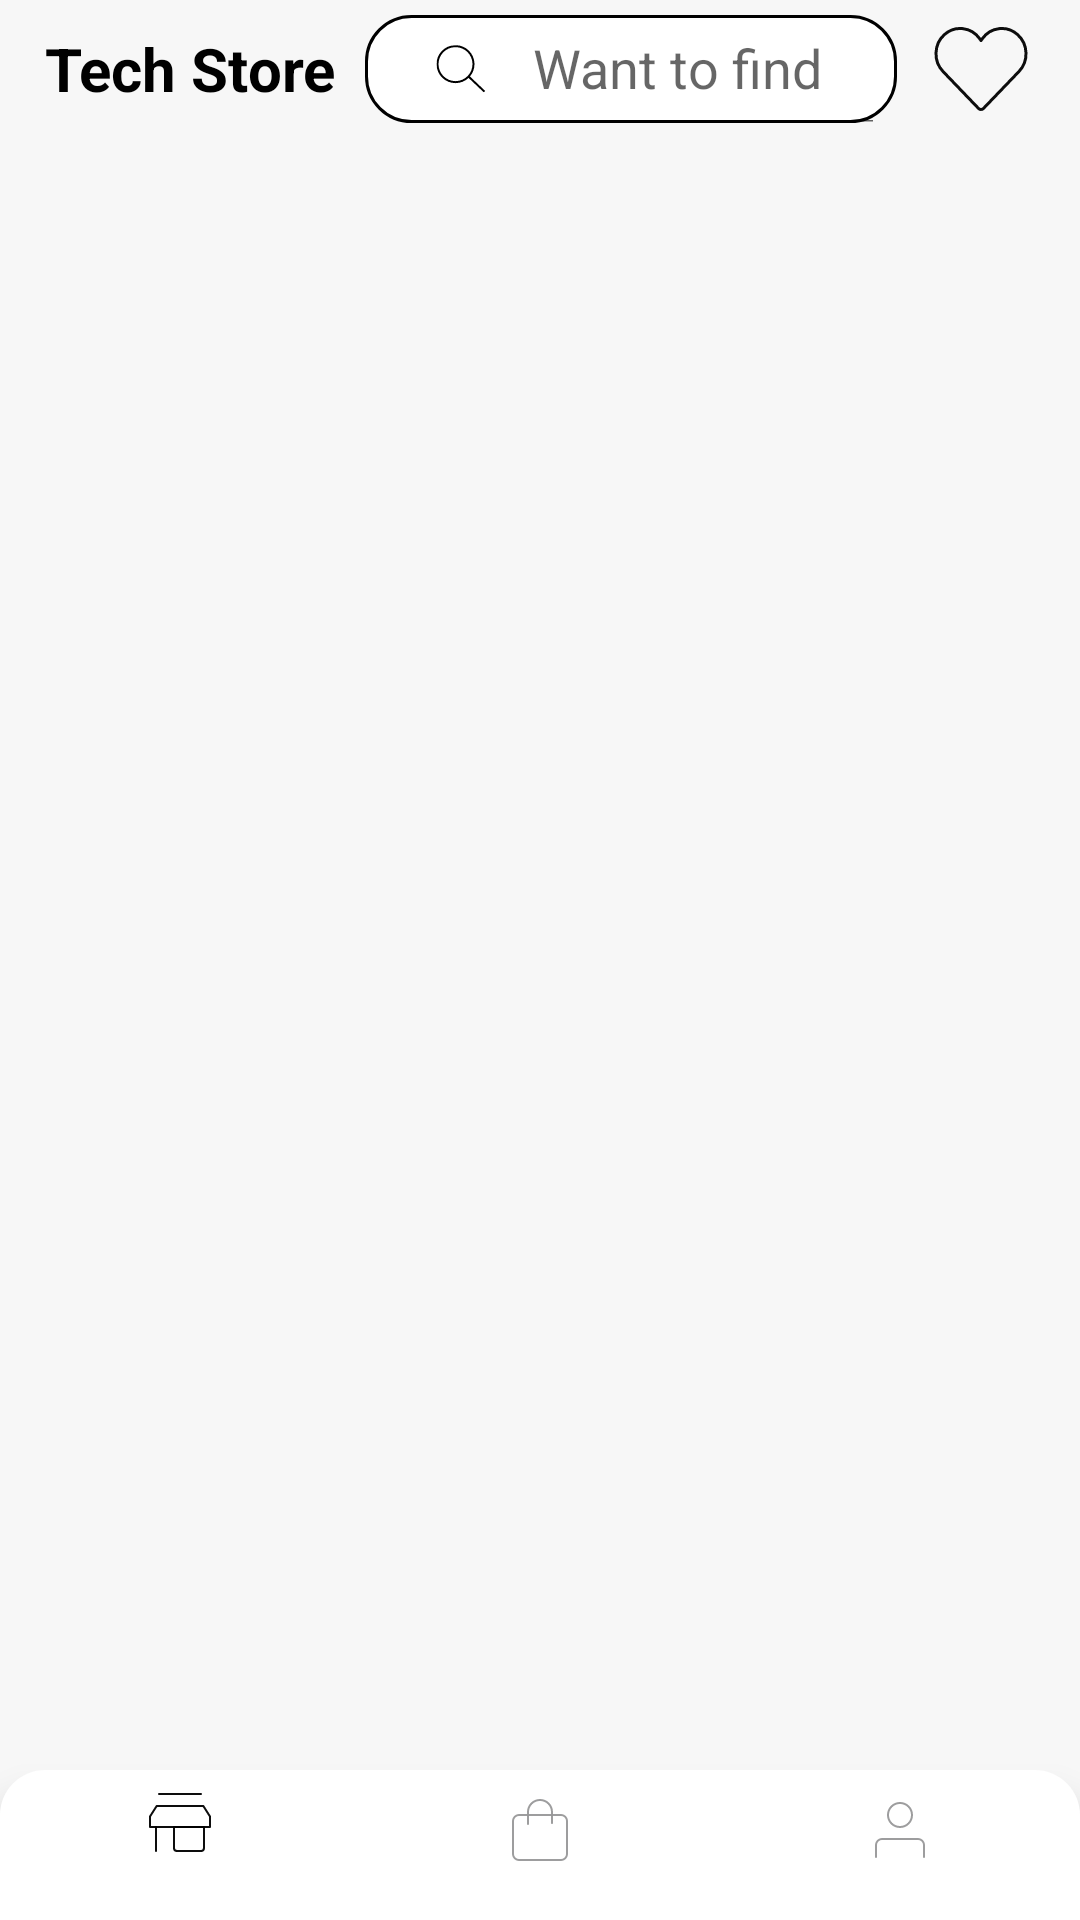

Named icons in this screenshot (1080px×1920px) and their bounding boxes, (x1, y1, x2, y2):
love: (934, 27, 1028, 111)
